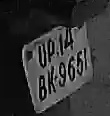1: (57, 34, 65, 57), (83, 47, 89, 71)
4: (63, 28, 76, 51)
5: (76, 49, 84, 76)
6: (66, 55, 77, 82)
9: (58, 59, 68, 89)
B: (36, 73, 47, 104)
K: (46, 65, 58, 96)
P: (46, 38, 57, 65)
U: (34, 45, 48, 68)
